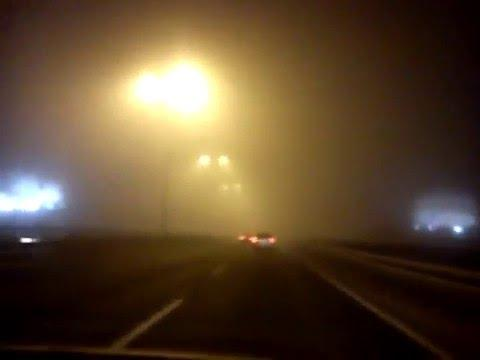car: (248, 230, 279, 252)
